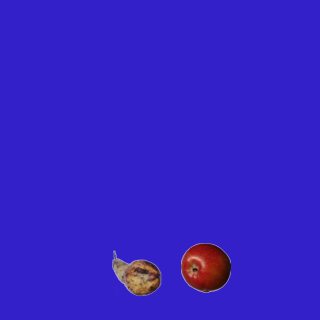Apple Braeburn: (180, 242, 230, 292)
Pear Abate: (111, 248, 161, 298)
